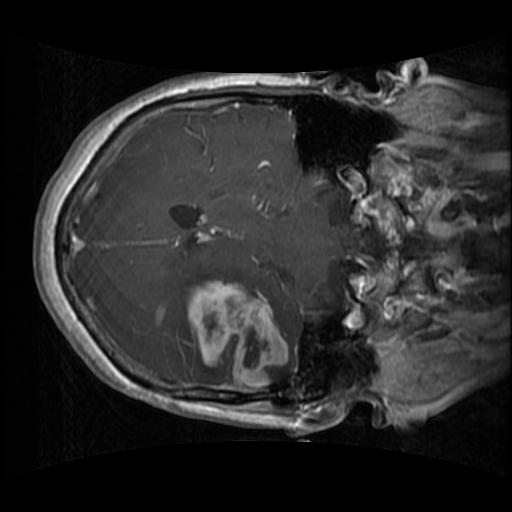glioma: (186, 269, 287, 391)
